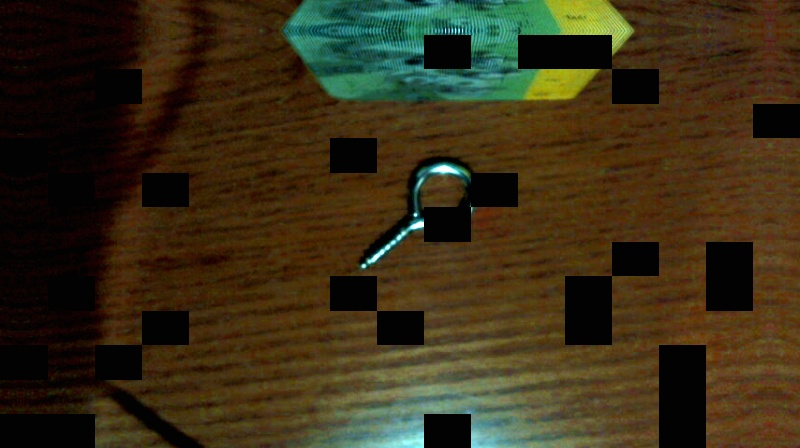O001: (356, 154, 482, 275)
